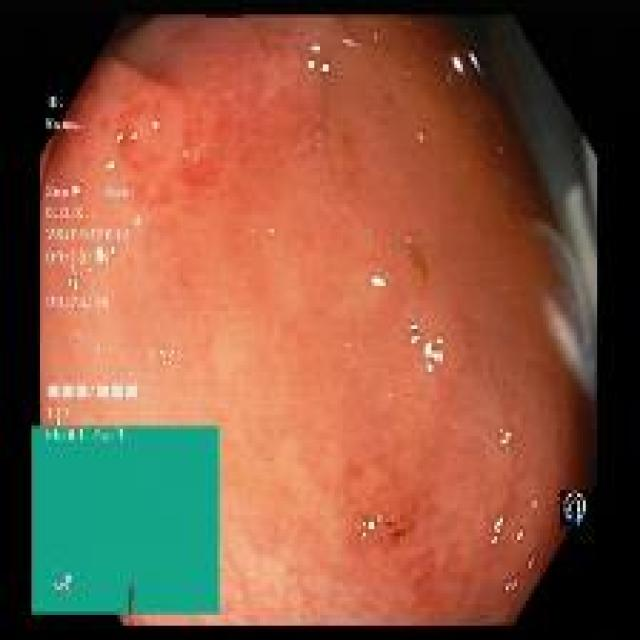ulcerative-colitis: (40, 17, 595, 624)
